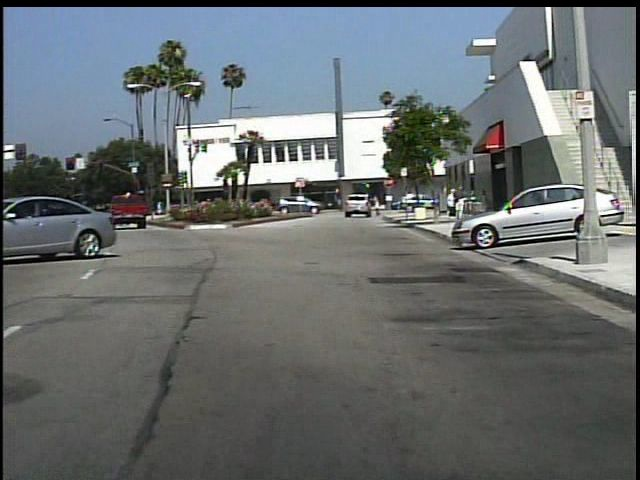person: (453, 186, 467, 224), (476, 187, 492, 219), (371, 192, 386, 221), (446, 188, 458, 221)
